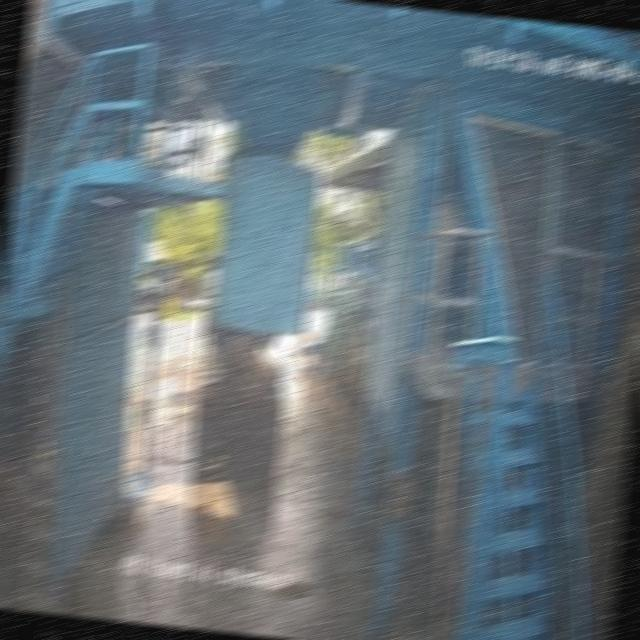cement_mixer_truck: (193, 256, 287, 465)
